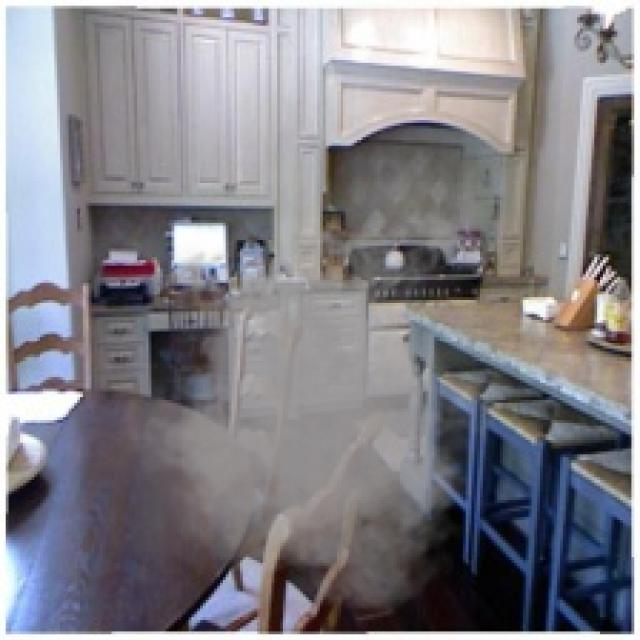smoke: (103, 200, 528, 617)
